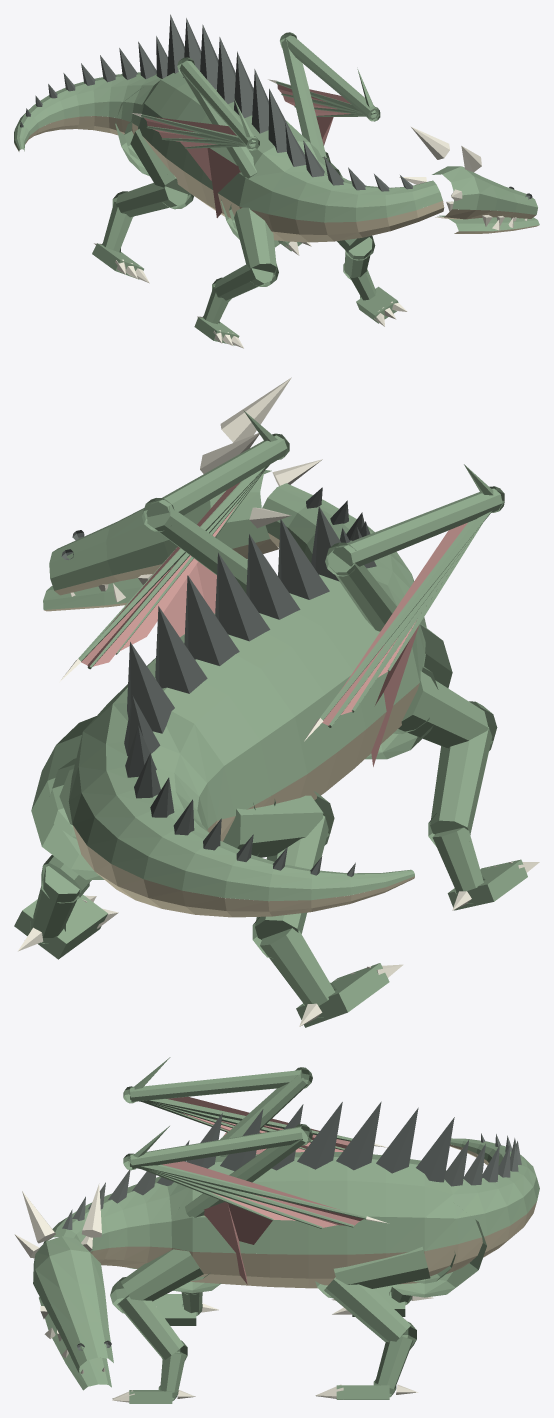
The model's file is dragons-and-wyverns-dragon-hatchling-asleep-2542b275__36707.glb.
3 views of the same model, one above another, from view 1: azimuth 30°, elevation 25°; view 2: azimuth 150°, elevation 25°; view 3: azimuth 270°, elevation 25° (orthographic). The views are drawn at different scales.
Visible parts, largest first — view 1: dragon-hatchling-asleep; view 2: dragon-hatchling-asleep; view 3: dragon-hatchling-asleep.
Boxes of the visible parts, box(x1,y1,x2,y2) form: dragon-hatchling-asleep: box(14, 14, 539, 348); dragon-hatchling-asleep: box(14, 377, 539, 1027); dragon-hatchling-asleep: box(14, 1057, 539, 1403).
Size of the model in its own units: 0.3546 by 0.2283 by 0.3942.
